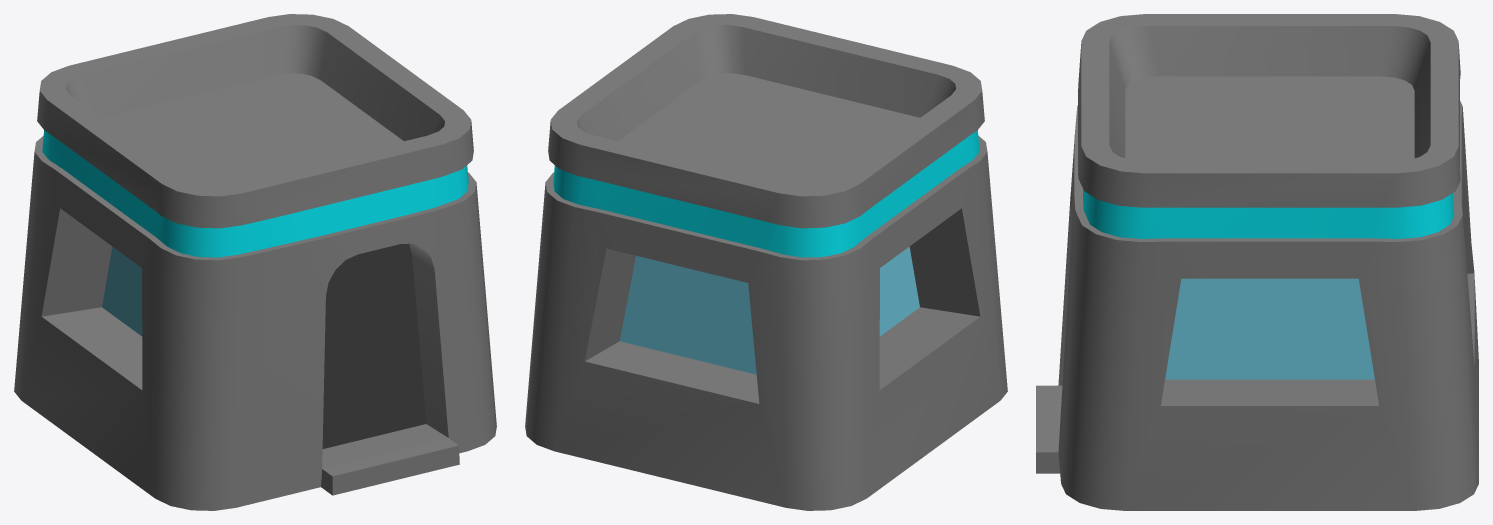
The model's file is House.fbx.
3 views of the same model, side by side, from view 1: azimuth 30°, elevation 25°; view 2: azimuth 150°, elevation 25°; view 3: azimuth 270°, elevation 25° (orthographic). The views are drawn at different scales.
Parts seen in each view (by area): view 1: HouseTier1; view 2: HouseTier1; view 3: HouseTier1.
Part boxes in pixels (bbox=[...]): HouseTier1: bbox=[14, 14, 496, 510]; HouseTier1: bbox=[525, 14, 1007, 510]; HouseTier1: bbox=[1036, 14, 1478, 510].
Size of the model in its own units: 188 by 163 by 199.
